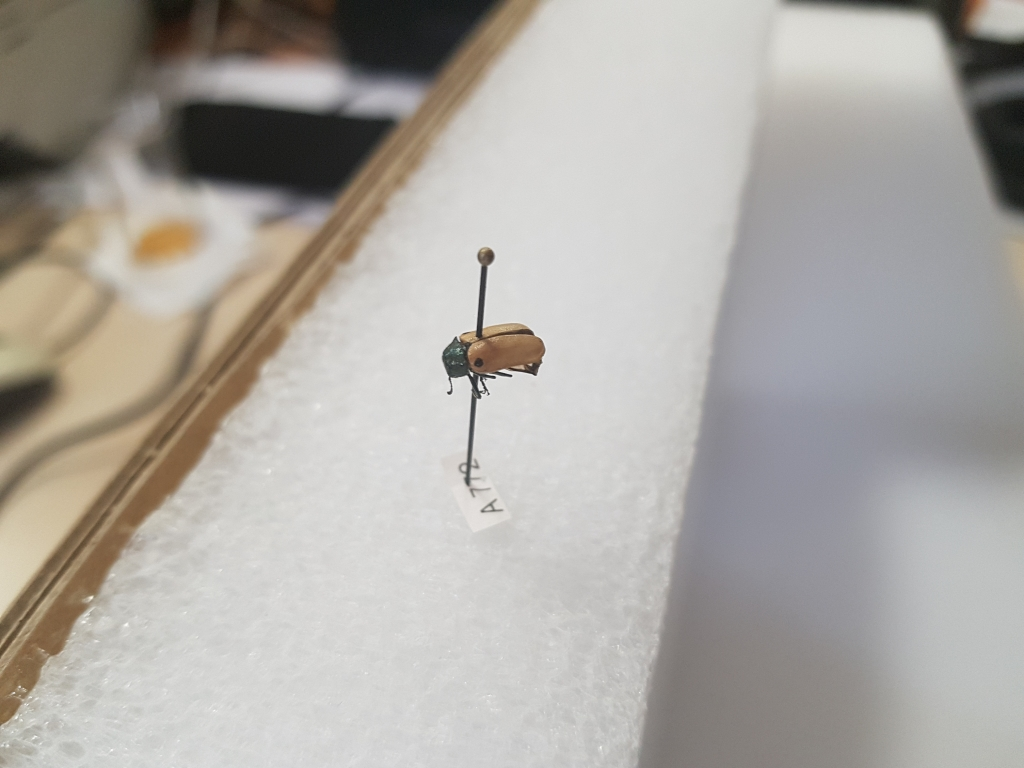Labidostomis_propinqua: (437, 321, 546, 398)
